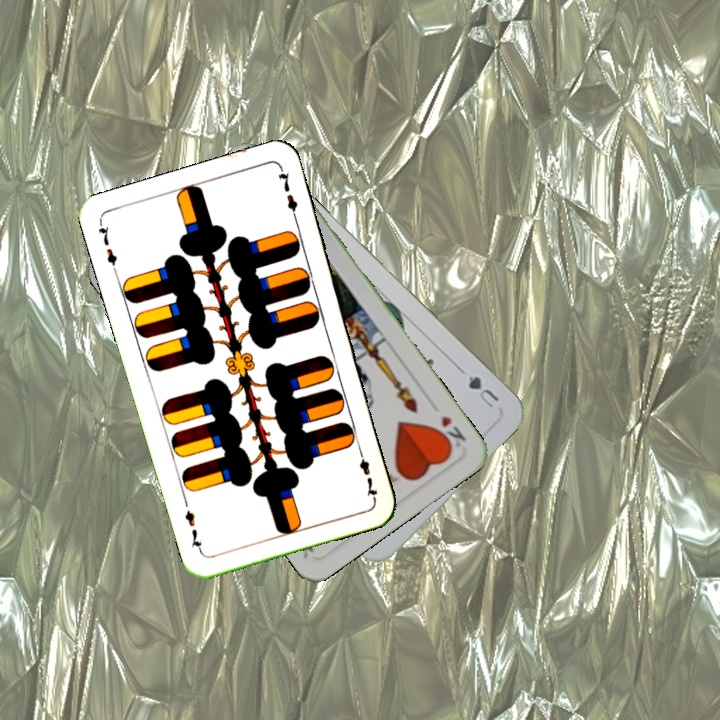E7: (93, 219, 120, 276), (354, 443, 380, 501)
GU: (464, 371, 502, 413)
HK: (431, 411, 469, 453)
